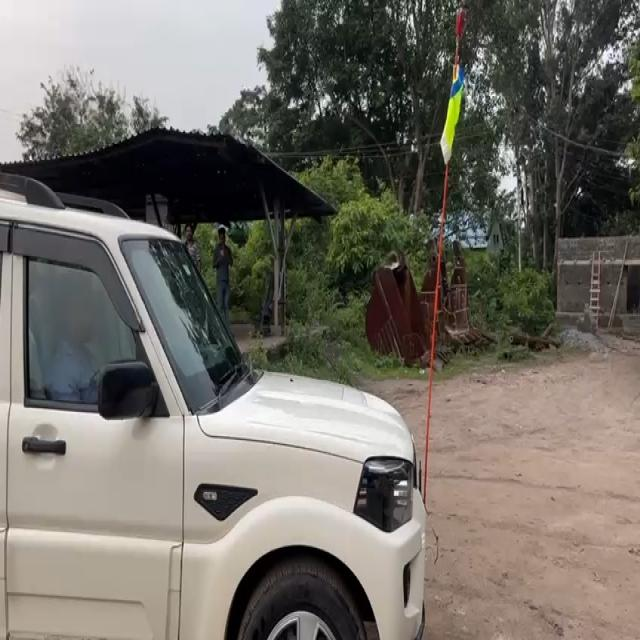light_vehicle: (3, 174, 426, 640)
